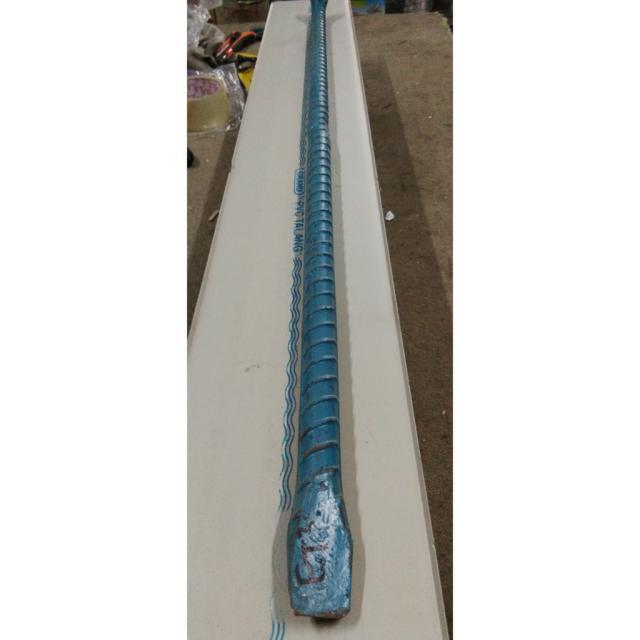Linggis: (284, 0, 360, 640)
